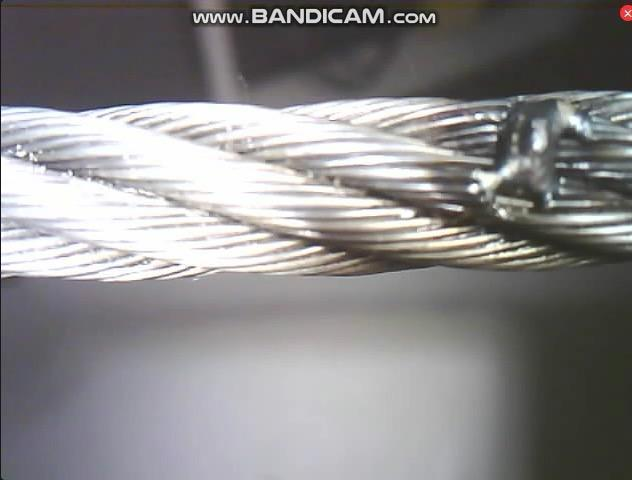thunderbolt: (448, 91, 588, 202)
